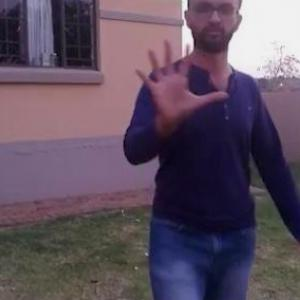follow_hand: (131, 37, 229, 127)
